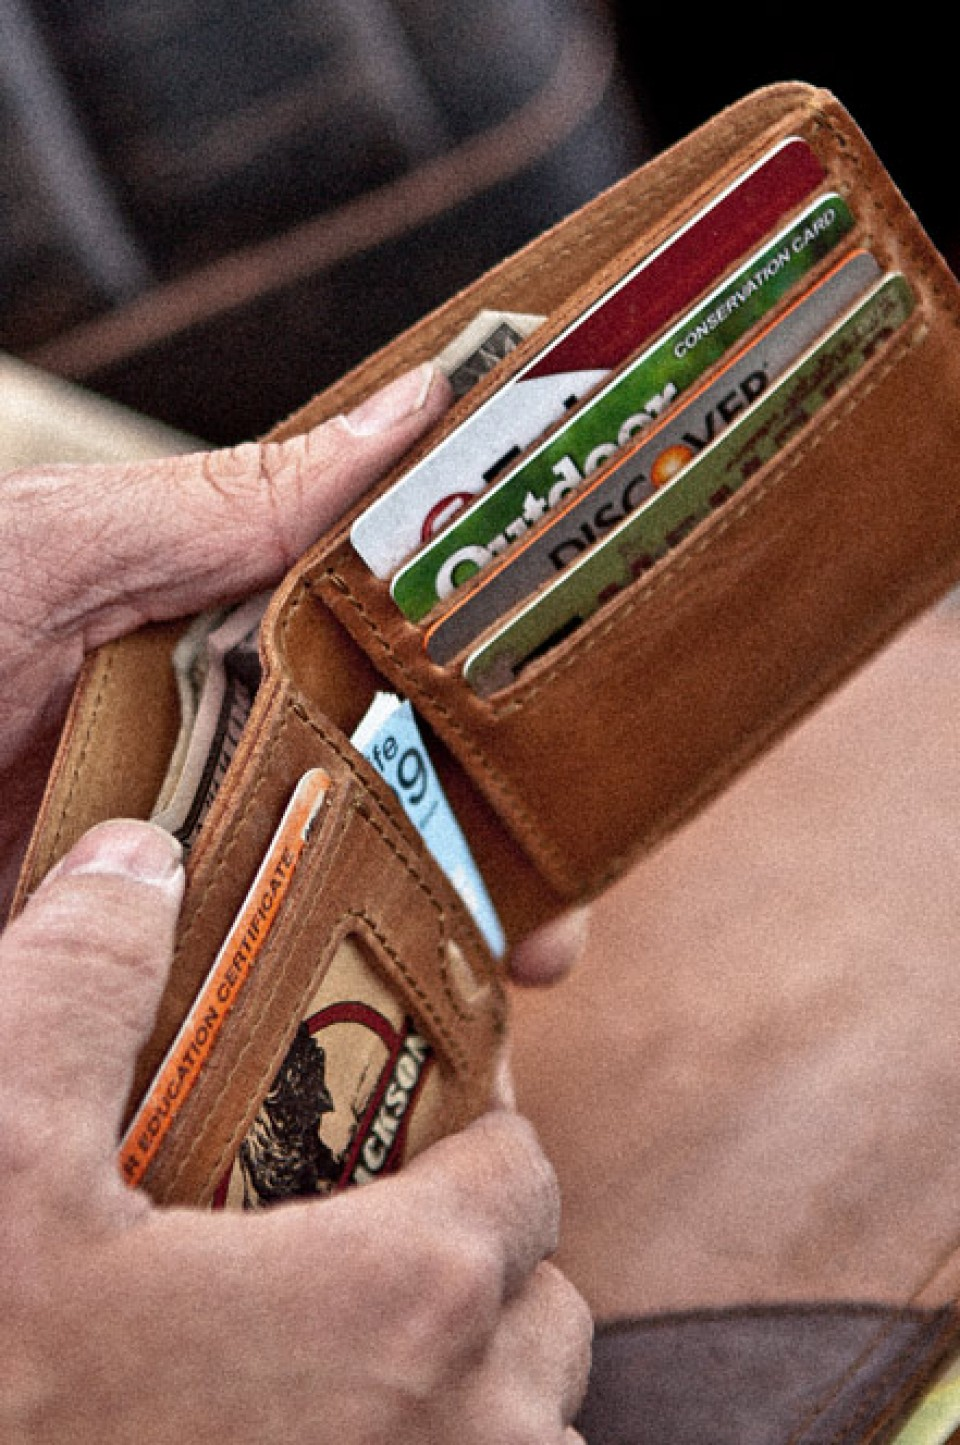monedero: (1, 74, 957, 1222)
